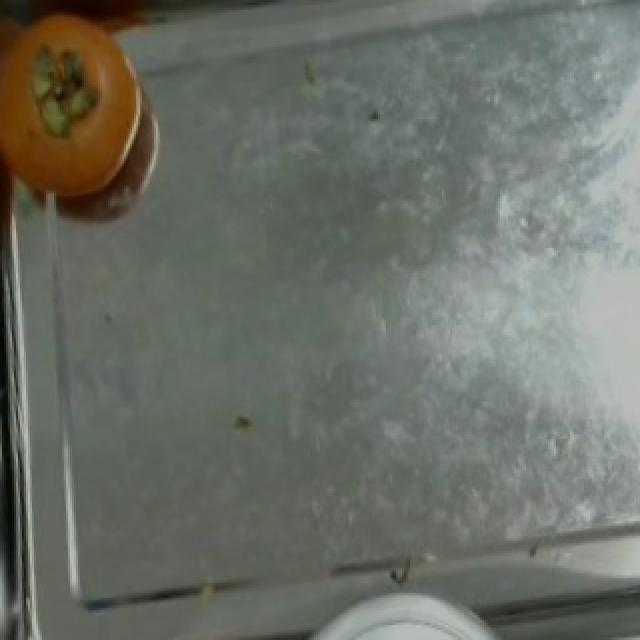Fruit: (0, 0, 172, 223)
